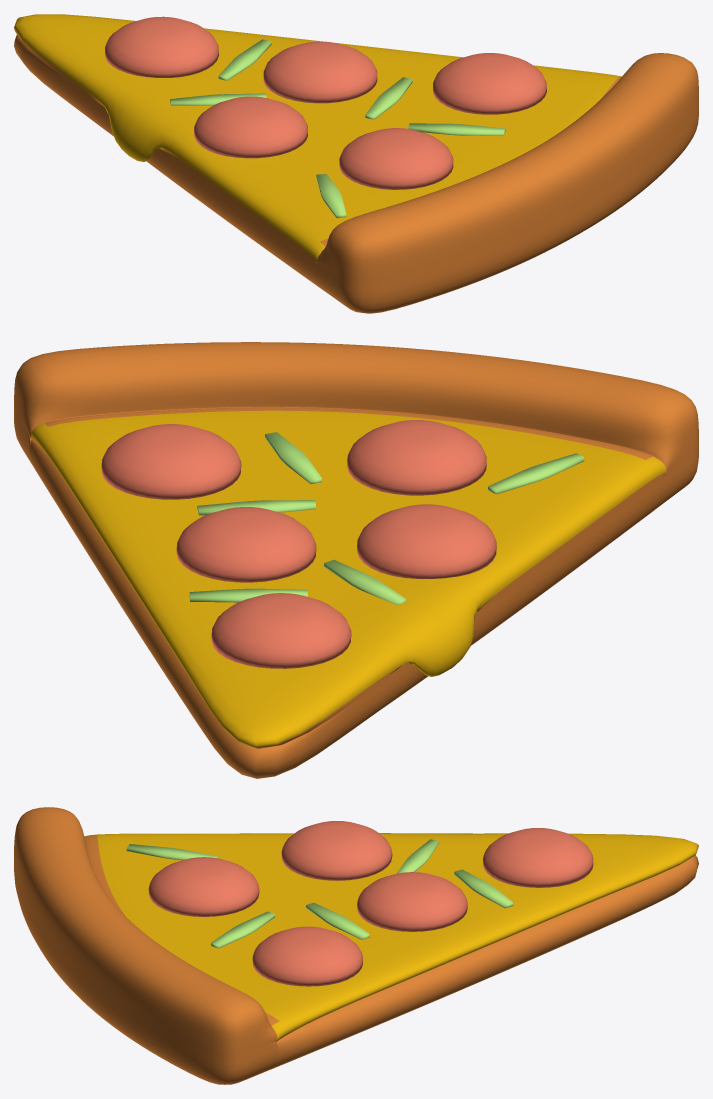
File: pizza.fbx
3 renders of one model, top to bottom at view 1: azimuth 30°, elevation 25°; view 2: azimuth 150°, elevation 25°; view 3: azimuth 270°, elevation 25°, orthographic. The views are drawn at different scales.
Visible parts, largest first — view 1: Circle, Cylinder.003, Cylinder.001, Cylinder.004, Cylinder, Cylinder.002, Cube.003, Cube, Cube.002, Cube.004, Cube.001; view 2: Circle, Cylinder.002, Cylinder, Cylinder.001, Cylinder.004, Cylinder.003, Cube.004, Cube.001, Cube.003, Cube, Cube.002; view 3: Circle, Cylinder, Cylinder.002, Cylinder.003, Cylinder.004, Cylinder.001, Cube.003, Cube.002, Cube, Cube.004, Cube.001.
Part boxes in pixels (x1,y1,x2,y2): Circle: (14, 14, 698, 313); Cylinder.003: (194, 96, 307, 158); Cylinder.001: (263, 41, 377, 103); Cylinder.004: (339, 128, 453, 189); Cylinder: (433, 53, 546, 114); Cylinder.002: (105, 16, 218, 77); Cube.003: (408, 123, 505, 135); Cube: (218, 39, 271, 80); Cube.002: (365, 77, 412, 119); Cube.004: (316, 173, 346, 217); Cube.001: (170, 93, 266, 105); Circle: (14, 342, 698, 778); Cylinder.002: (211, 593, 351, 668); Cylinder: (101, 424, 241, 499); Cylinder.001: (176, 507, 316, 582); Cylinder.004: (347, 420, 486, 495); Cylinder.003: (357, 504, 496, 578); Cube.004: (488, 453, 584, 494); Cube.001: (324, 559, 406, 604); Cube.003: (265, 432, 321, 483); Cube: (189, 588, 307, 602); Cube.002: (197, 500, 315, 515); Circle: (14, 807, 698, 1084); Cylinder: (252, 926, 362, 986); Cylinder.002: (483, 828, 593, 887); Cylinder.003: (281, 821, 392, 880); Cylinder.004: (148, 857, 259, 916); Cylinder.001: (357, 872, 467, 931); Cube.003: (211, 911, 275, 948); Cube.002: (306, 902, 369, 939); Cube: (454, 869, 513, 908); Cube.004: (126, 844, 218, 860); Cube.001: (396, 839, 439, 873).
Size of the model in its own units: 25.51 by 4.58 by 33.6.
